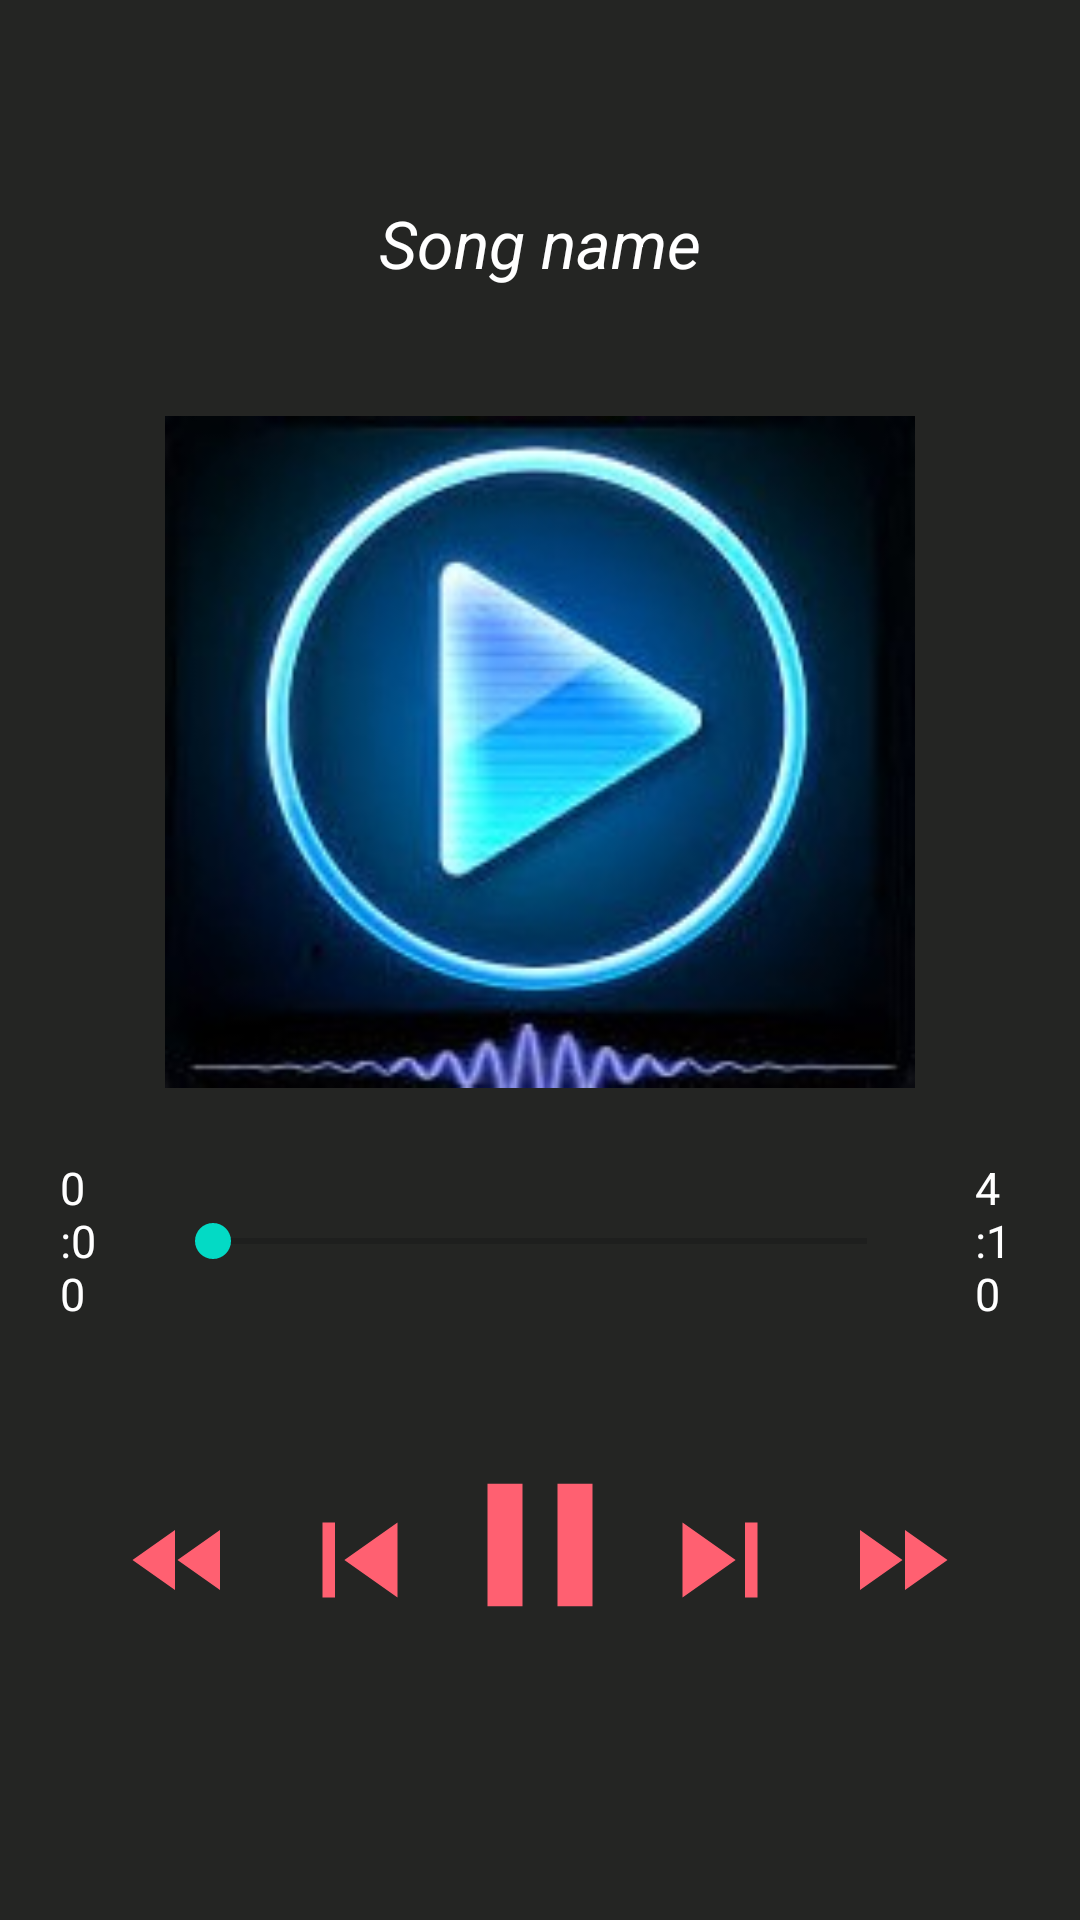

Icon bounding boxes for this 1080 × 1920 phone screenshot, format [x1, y1, x2, y2]:
fast forward: [860, 1530, 947, 1590]
fast rewind: [133, 1530, 220, 1590]
next: [682, 1522, 758, 1598]
pause: [487, 1483, 593, 1607]
skip previous: [322, 1522, 398, 1598]
